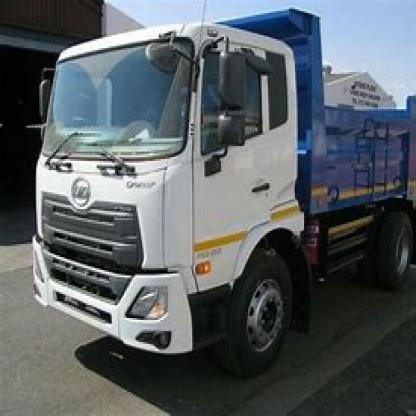dump_truck: (38, 4, 414, 372)
